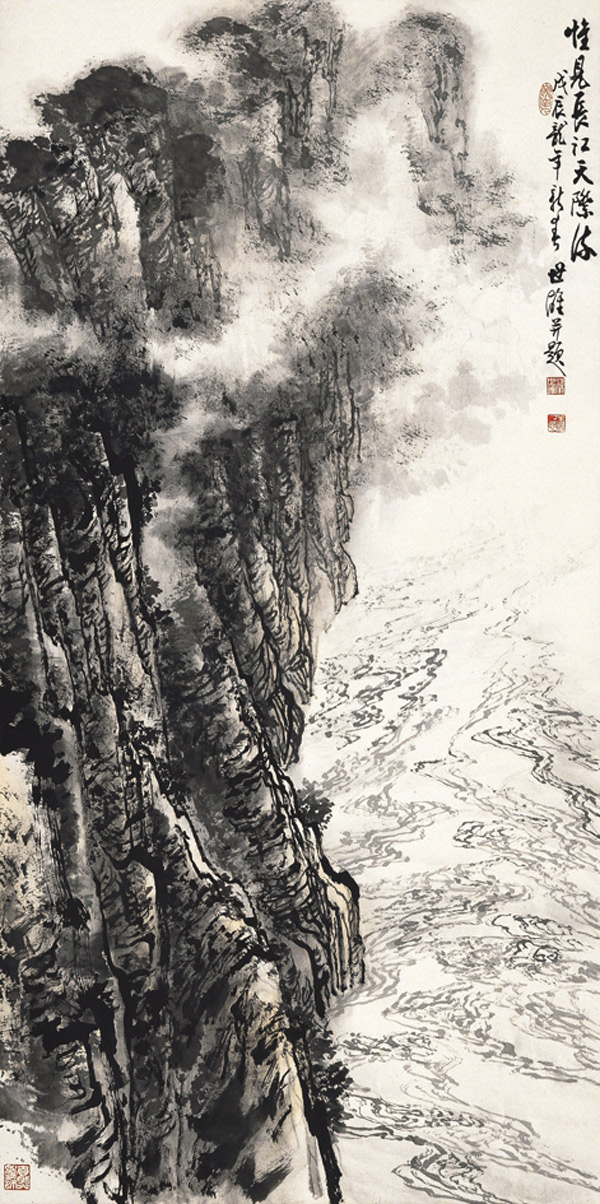mountain: (1, 5, 350, 1203)
river: (346, 559, 600, 1204)
